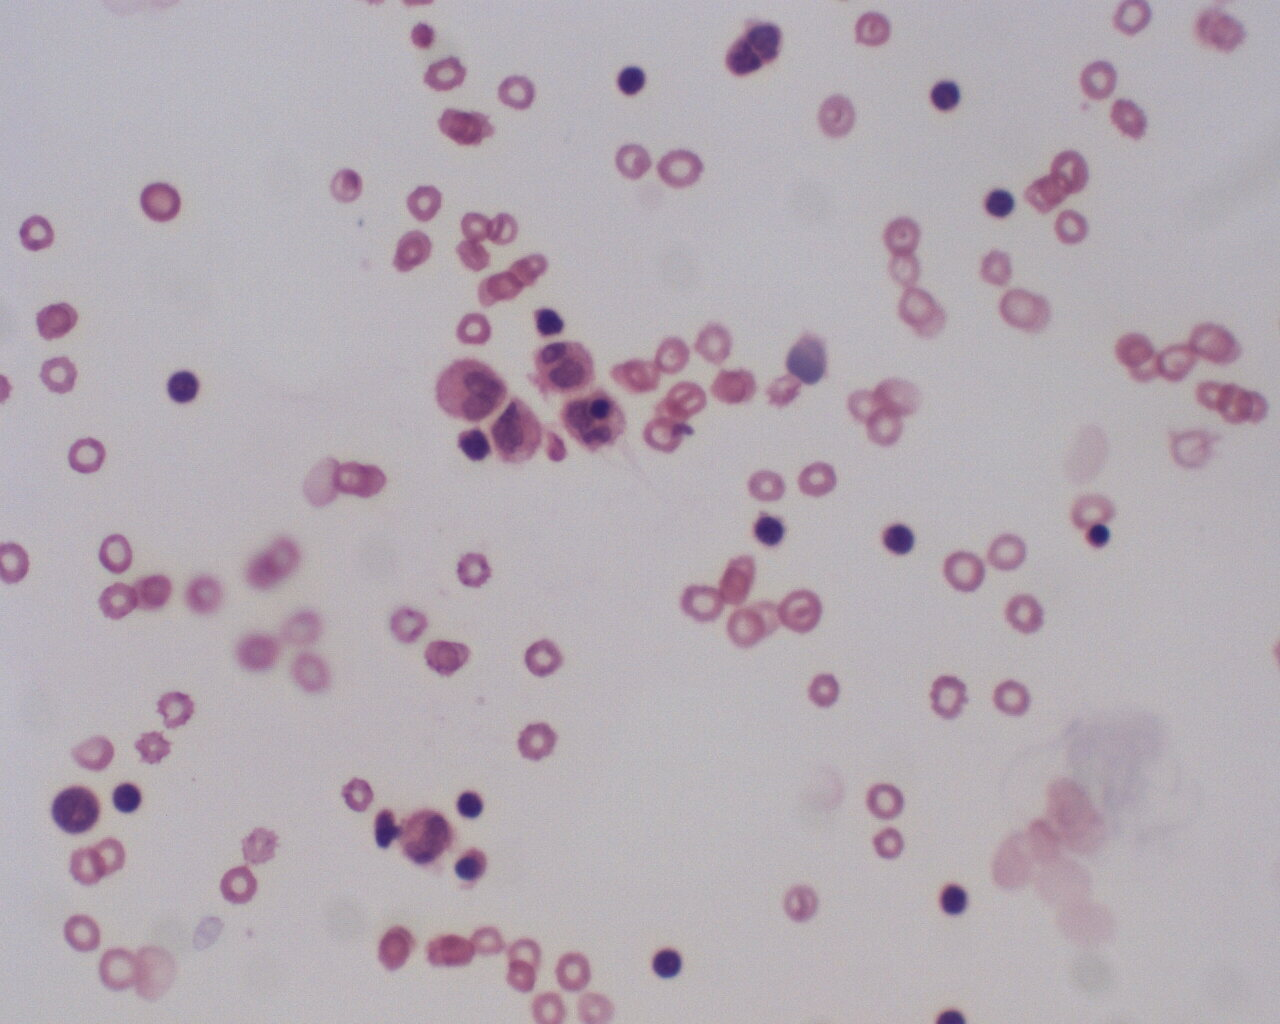ab: (612, 61, 650, 99)
lymph: (164, 367, 205, 409), (935, 883, 976, 920), (648, 942, 683, 984), (879, 522, 916, 561), (110, 779, 145, 820), (982, 185, 1020, 223), (453, 786, 489, 824)
